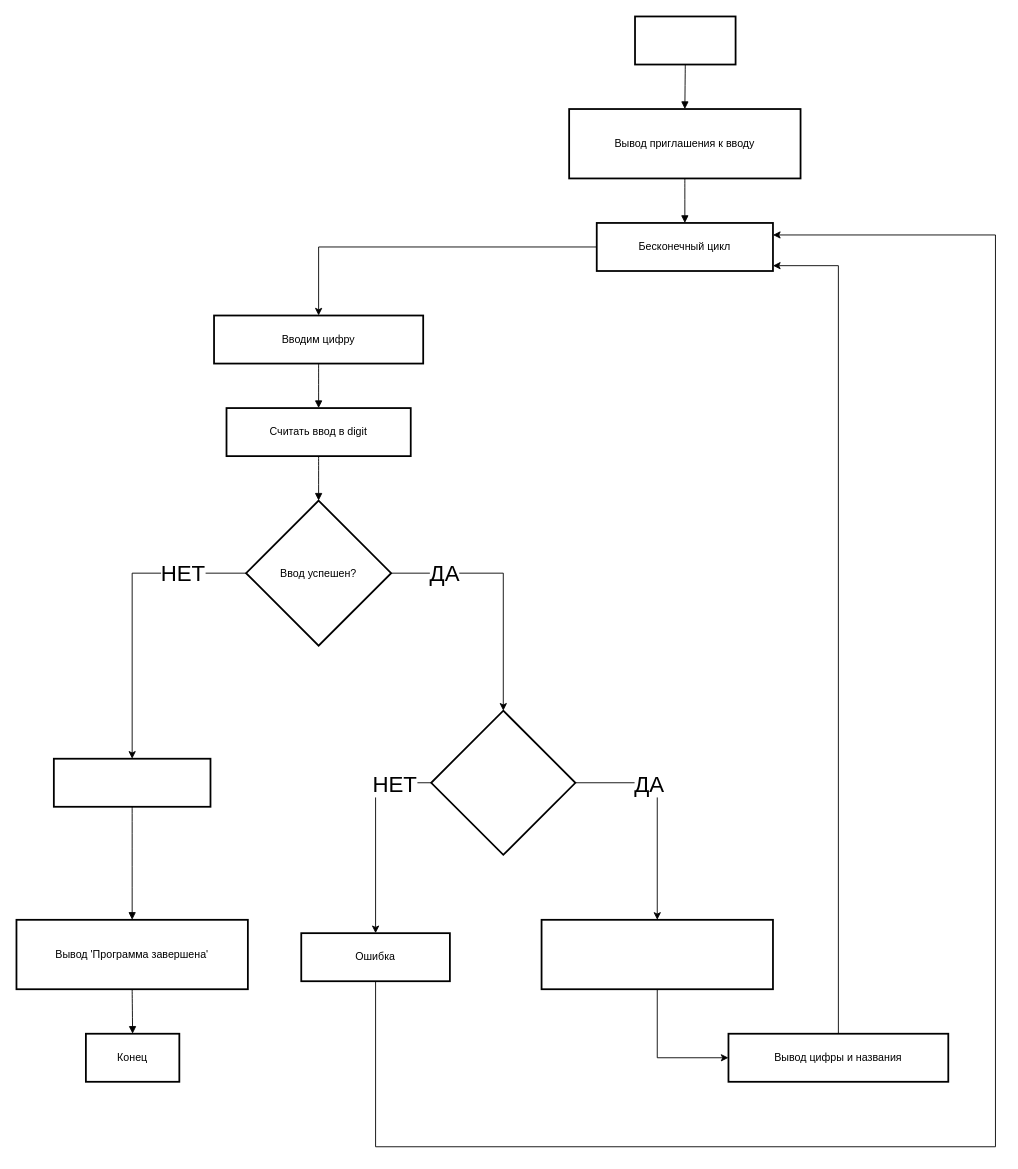
This 1018x1169 diagram has some shape labels left out. The centre of each missing label's shape, as x and y in pixels:
digit от 0 до 9?: point 503,782
Выход из цикла: point 132,782
Начало: point 685,40
Определение названия через switch: point 656,954
